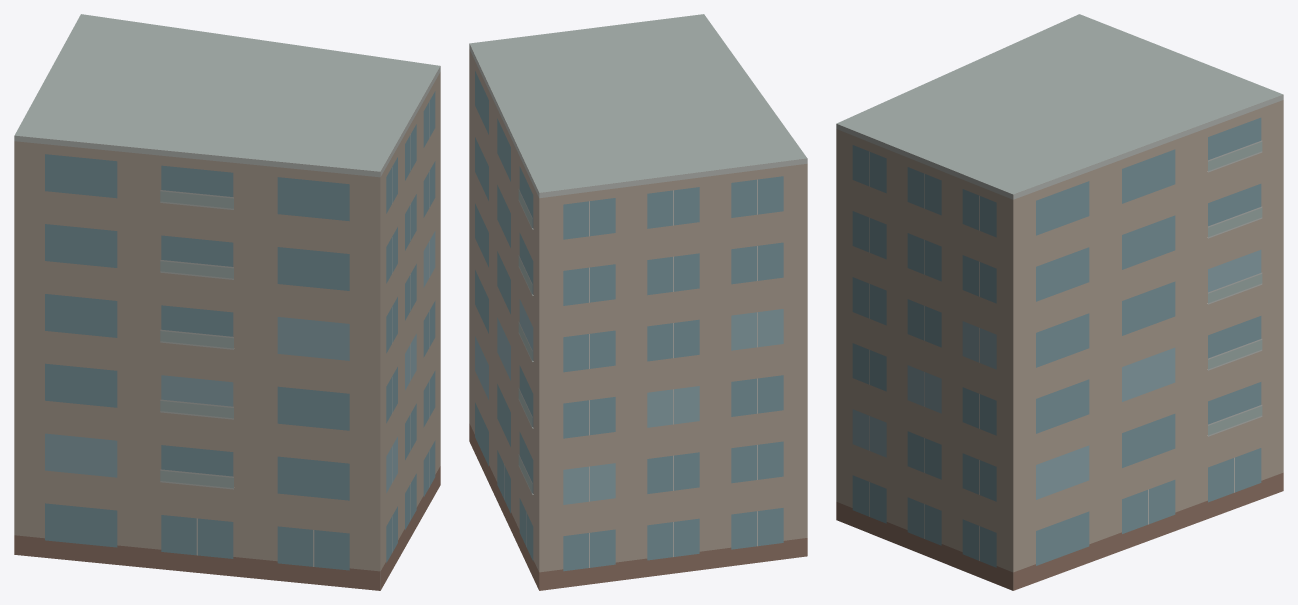
Rendered from survey-upis-32655919.glb.
3 views of the same model, side by side, from view 1: azimuth 30°, elevation 25°; view 2: azimuth 150°, elevation 25°; view 3: azimuth 270°, elevation 25° (orthographic). The views are drawn at different scales.
Parts seen in each view (by area): view 1: survey-upis-32655919.tmp; view 2: survey-upis-32655919.tmp; view 3: survey-upis-32655919.tmp.
Boxes of the visible parts, x1,y1,x2,y2 form: survey-upis-32655919.tmp: (14,14,440,590); survey-upis-32655919.tmp: (469,14,807,590); survey-upis-32655919.tmp: (836,14,1283,590).
Size of the model in its own units: 17.88 by 18.3 by 18.73.
